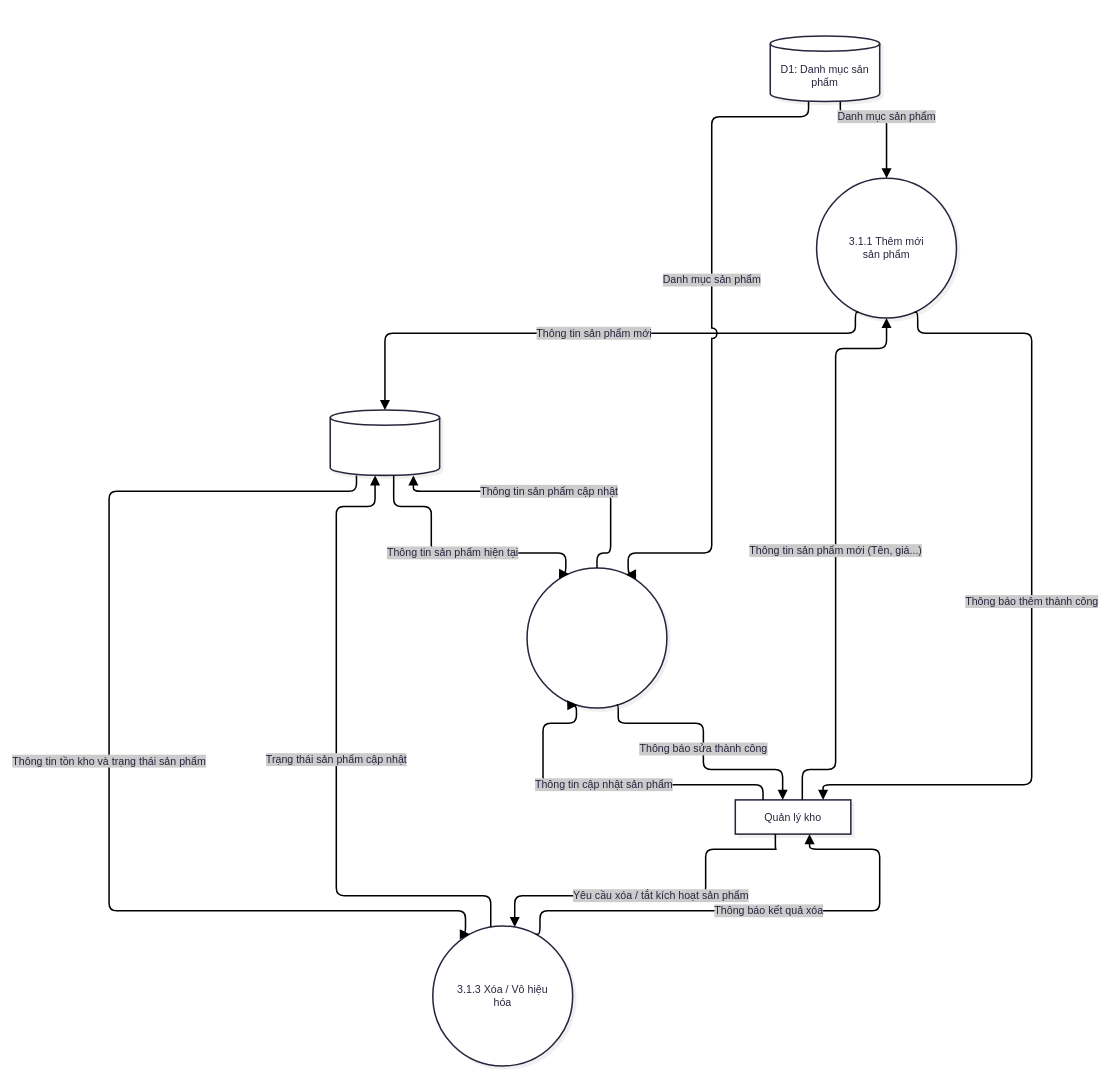
Image size: 1111x1082. Some labels were removed from this diagram. The shapes that lost their labels are listed below. From the top down, each one's centre as x and y in pixels, then its label:
the point at 386,444: D2: Sản phẩm
the point at 598,639: 3.1.2 Chỉnh sửa sản phẩm
